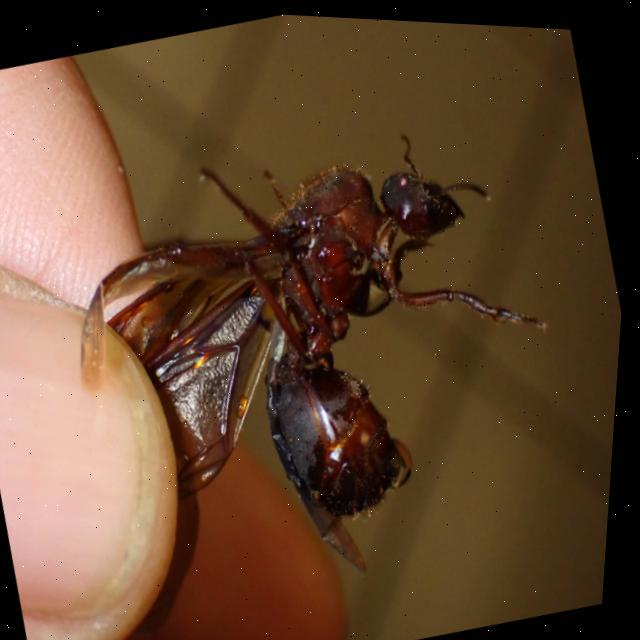Alive-Female-Alate: (29, 79, 615, 639)
